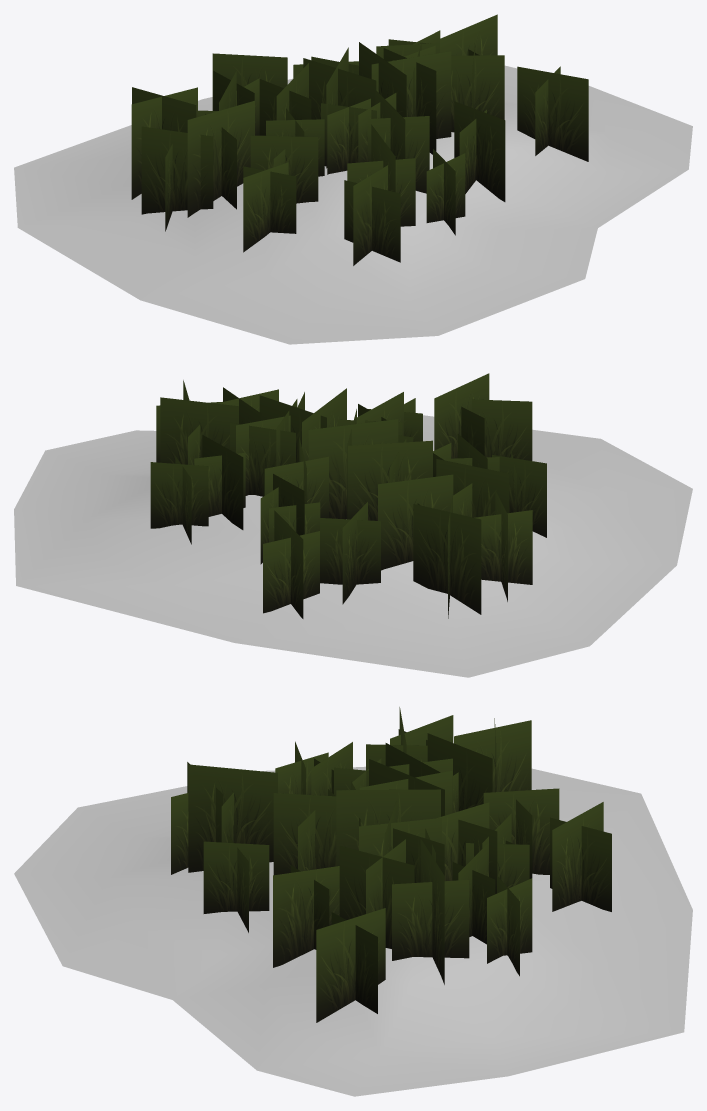
File: Soil_Grass_03.fbx
3 renders of one model, top to bottom at view 1: azimuth 30°, elevation 25°; view 2: azimuth 150°, elevation 25°; view 3: azimuth 270°, elevation 25°, orthographic. The views are drawn at different scales.
Visible parts, largest first — view 1: Soil_Grass_03; view 2: Soil_Grass_03; view 3: Soil_Grass_03.
Boxes of the visible parts, x1,y1,x2,y2 form: Soil_Grass_03: (14, 14, 692, 344); Soil_Grass_03: (14, 373, 692, 677); Soil_Grass_03: (14, 707, 692, 1096).
Size of the model in its own units: 10.17 by 8.7 by 2.07.
